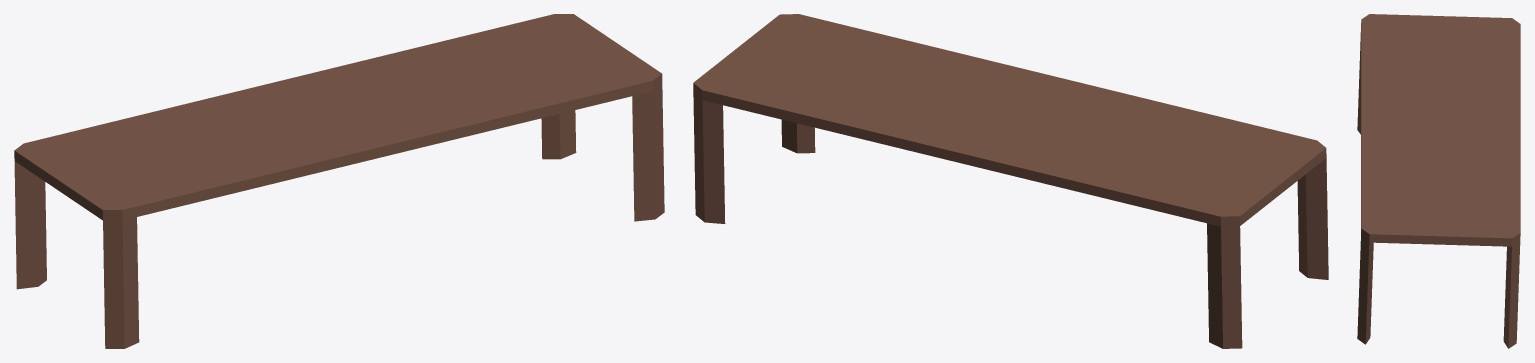
File: table01.gltf
3 views of the same model, side by side, from view 1: azimuth 30°, elevation 25°; view 2: azimuth 150°, elevation 25°; view 3: azimuth 270°, elevation 25° (orthographic). The views are drawn at different scales.
Visible parts, largest first — view 1: Table_01; view 2: Table_01; view 3: Table_01.
Part boxes in pixels (x1=…): Table_01: x1=14, y1=14, x2=664, y2=348; Table_01: x1=693, y1=14, x2=1328, y2=348; Table_01: x1=1357, y1=14, x2=1520, y2=348.
Size of the model in its own units: 3.9 by 0.9527 by 1.22.
